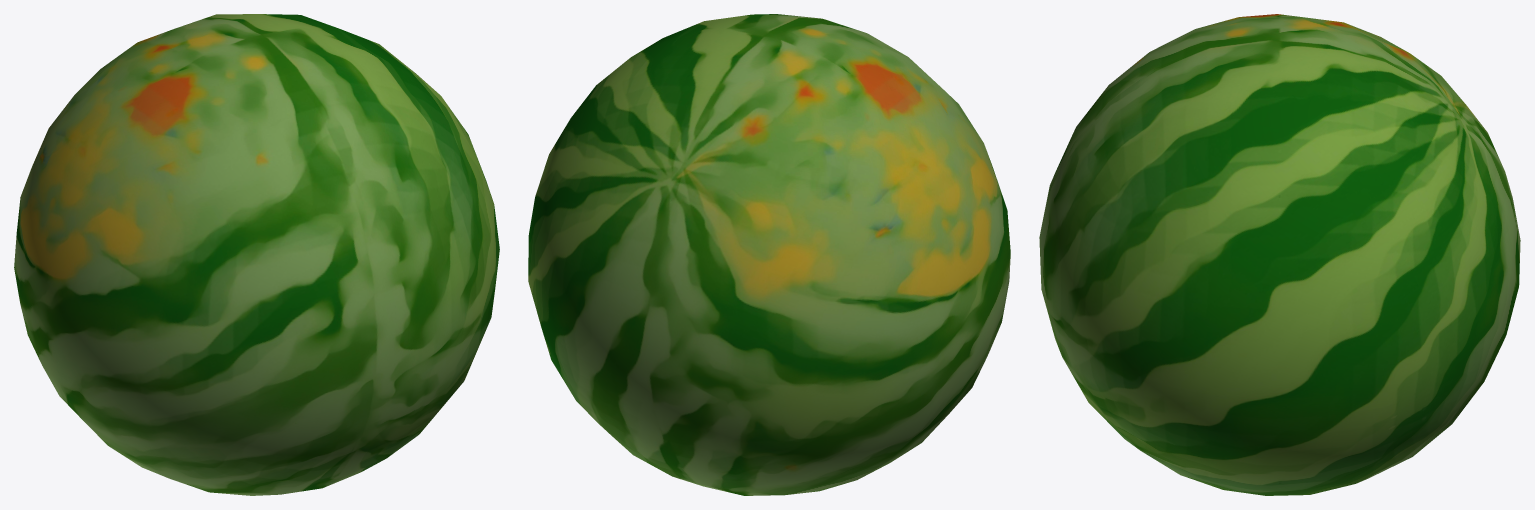
Rendered from watermelon-300T.fbx.
The picture shows the model from 3 angles, left to right: view 1: azimuth 30°, elevation 25°; view 2: azimuth 150°, elevation 25°; view 3: azimuth 270°, elevation 25°; orthographic projection.
Visible parts, largest first — view 1: tripo_node_0a55bbe9; view 2: tripo_node_0a55bbe9; view 3: tripo_node_0a55bbe9.
Part boxes in pixels (x1,y1,x2,y2): tripo_node_0a55bbe9: [14, 14, 499, 495]; tripo_node_0a55bbe9: [528, 14, 1010, 495]; tripo_node_0a55bbe9: [1039, 14, 1520, 495].
Bounding box in the file's own units: 0.9925 × 0.9958 × 0.9954.
1 material, 1 textured.
